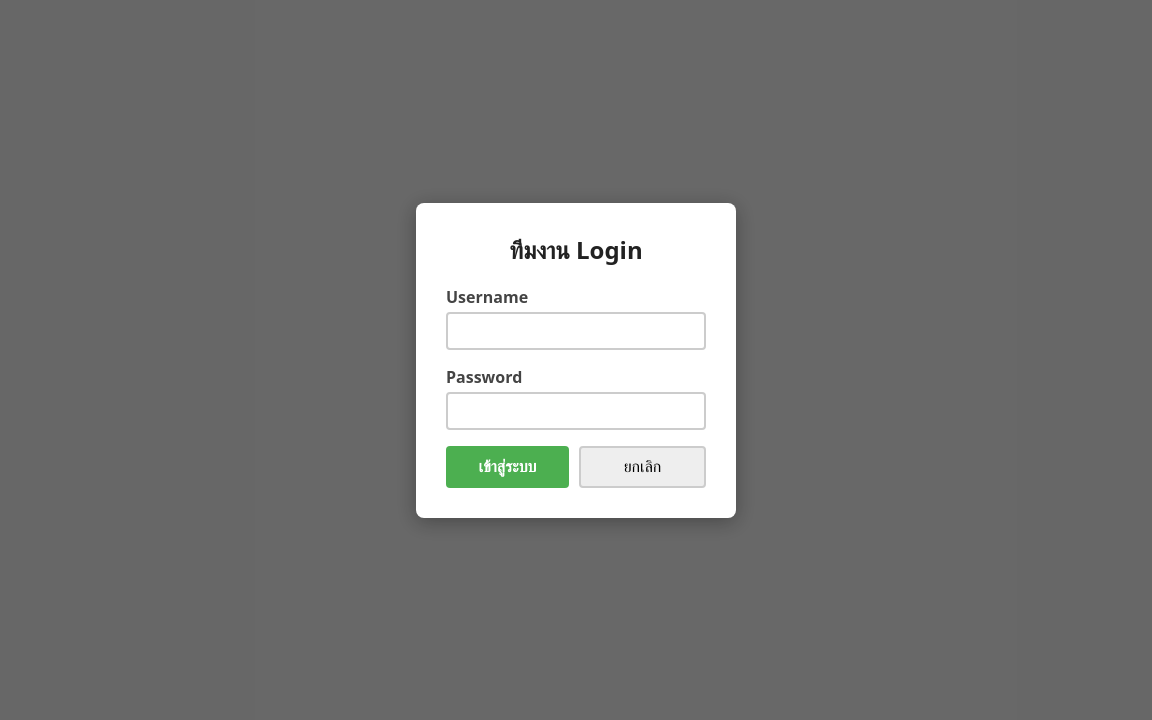
Test: LoginModal › failed login shows error
In the field: (576, 330) [446, 312, 706, 350], type "bad"
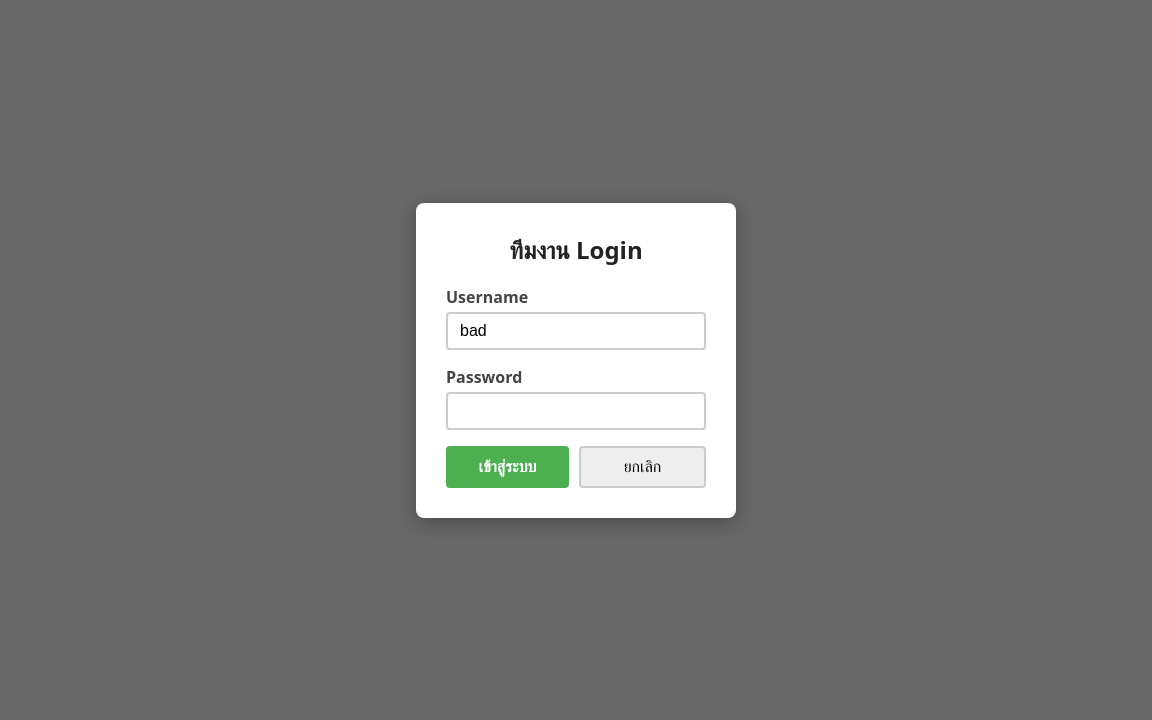
In the password field: (576, 410) [446, 392, 706, 430], type "bad"
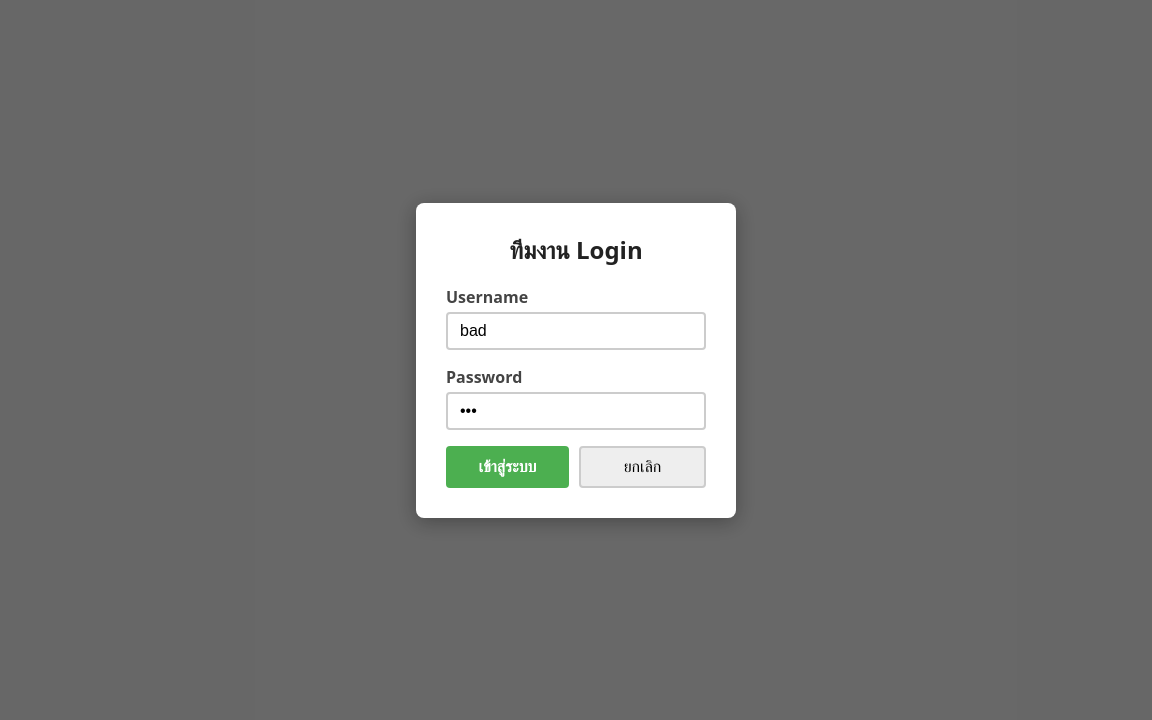
Click the button "เข้าสู่ระบบ": (508, 466) [446, 446, 569, 488]
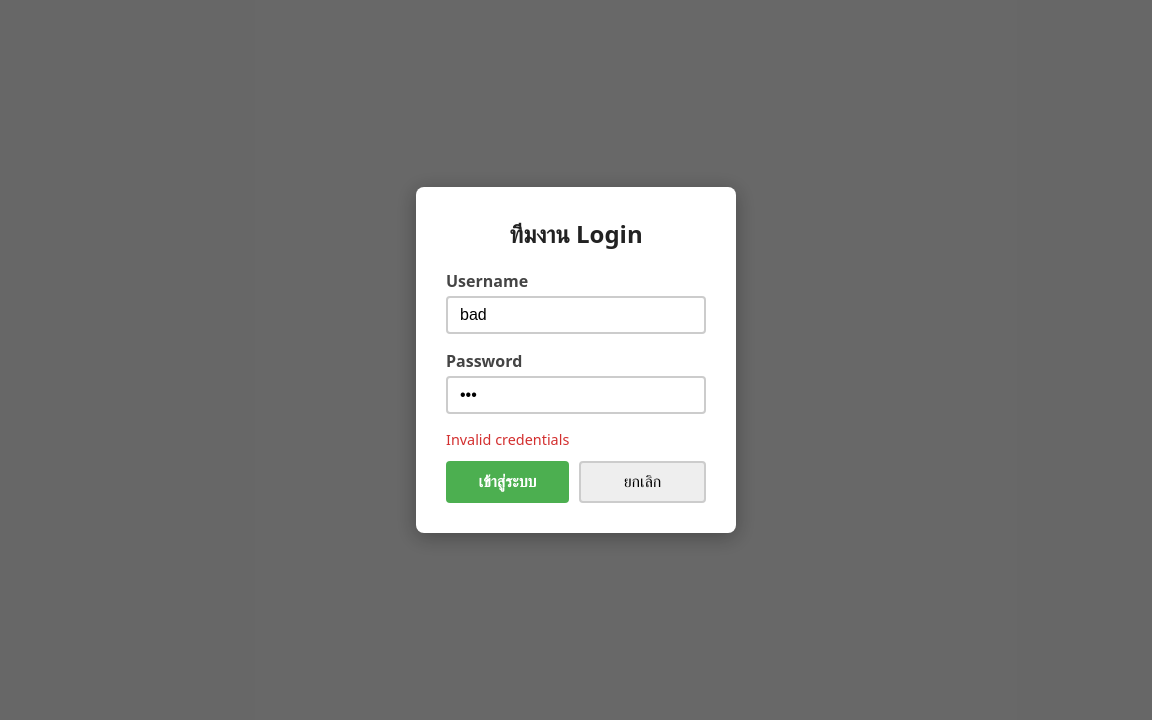
Check: the text "Invalid credentials" is shown, box [446, 430, 569, 449]
